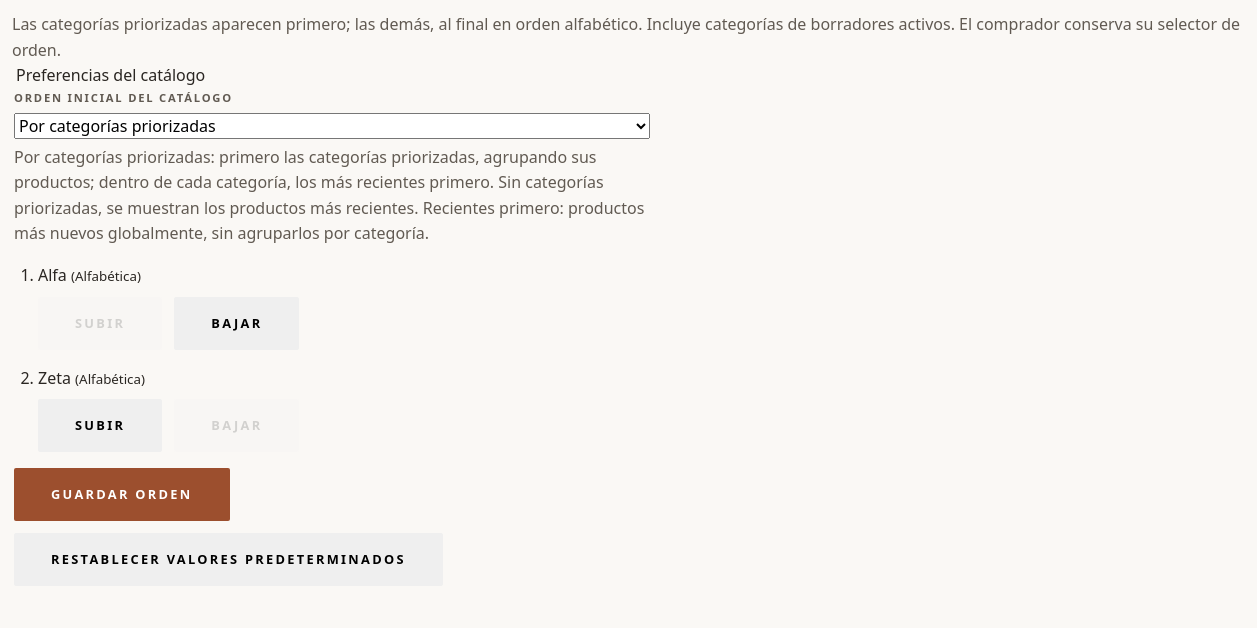
restablece en borrador y presenta los errores del servidor
Check: the dropdown labelled "Orden inicial del catálogo" is shown, box [14, 113, 650, 139]
What coordinates should you click on to do the following:
click the button "Restablecer valores predeterminados"
I would click on:
 (228, 559)
Its box is [14, 533, 443, 586].
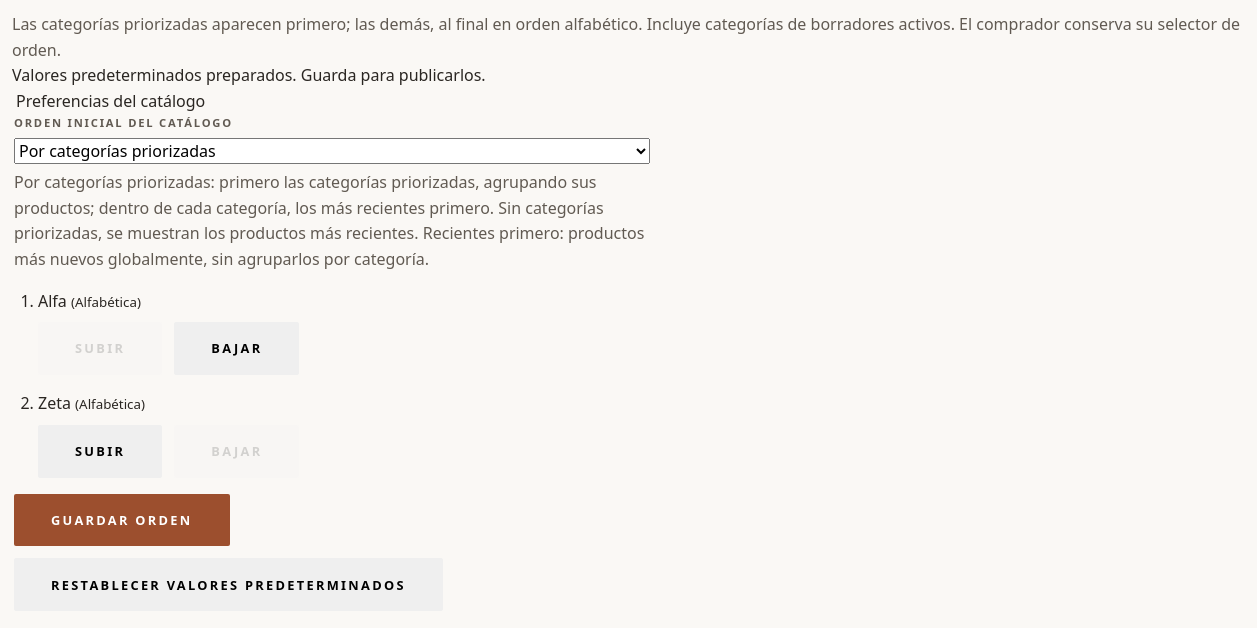
What coordinates should you click on to do the following:
click the button "Guardar orden"
I would click on:
 (122, 520)
Its box is [14, 494, 230, 546].
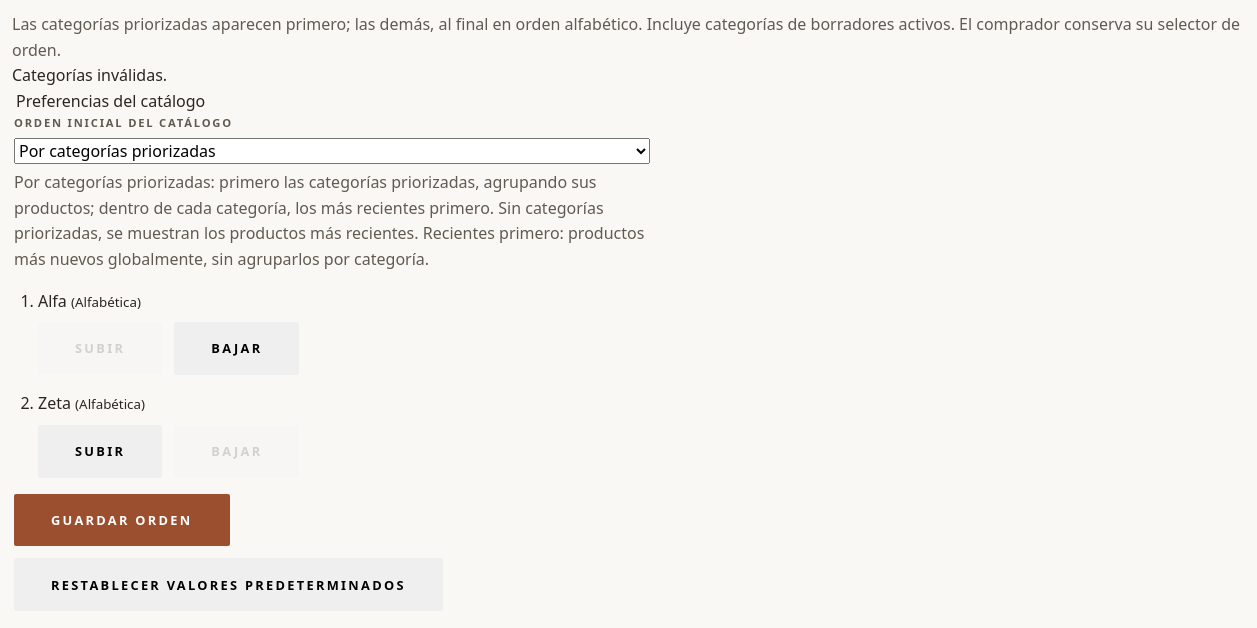
Check: the message reads "Categorías inválidas.", box [12, 64, 167, 86]
